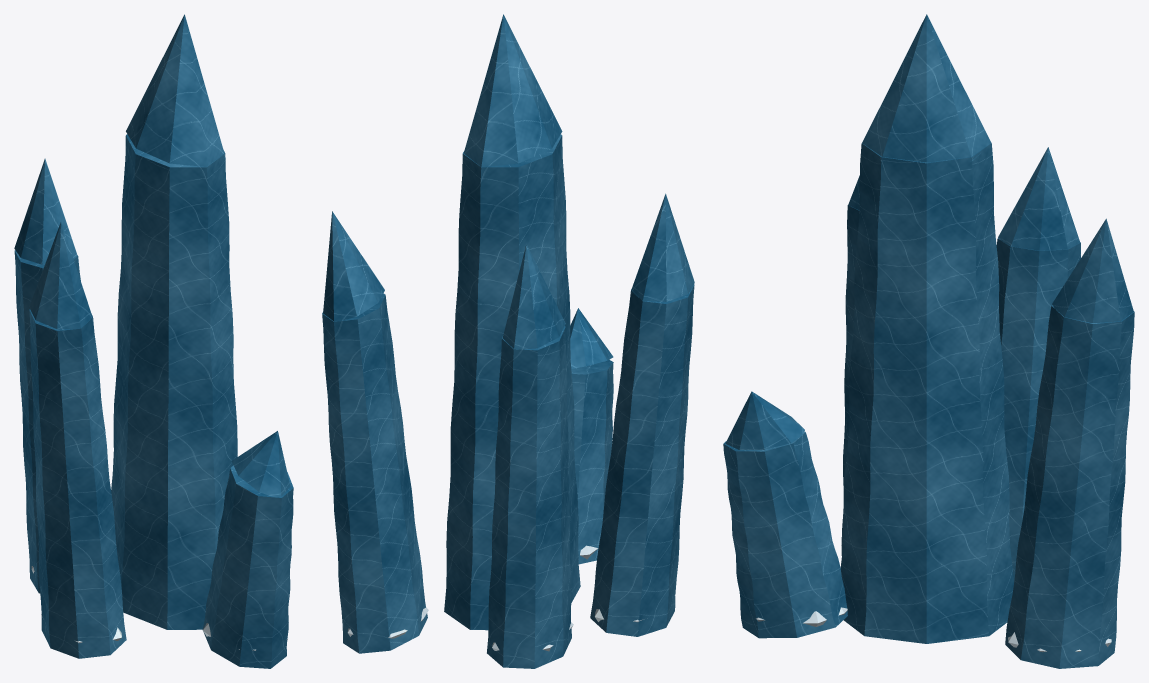
Rendered from BossRoom_FrostPillar.fbx.
3 views of the same model, side by side, from view 1: azimuth 30°, elevation 25°; view 2: azimuth 150°, elevation 25°; view 3: azimuth 270°, elevation 25° (orthographic). The views are drawn at different scales.
Visible parts, largest first — view 1: WO_BossRoom_FrostPillar_LOD0; view 2: WO_BossRoom_FrostPillar_LOD0; view 3: WO_BossRoom_FrostPillar_LOD0.
Part boxes in pixels (x1,y1,x2,y2): WO_BossRoom_FrostPillar_LOD0: (14, 14, 293, 668); WO_BossRoom_FrostPillar_LOD0: (322, 14, 694, 668); WO_BossRoom_FrostPillar_LOD0: (723, 14, 1134, 668).
Size of what is drawn, in the model's own units: 2.79 by 6 by 3.64.
